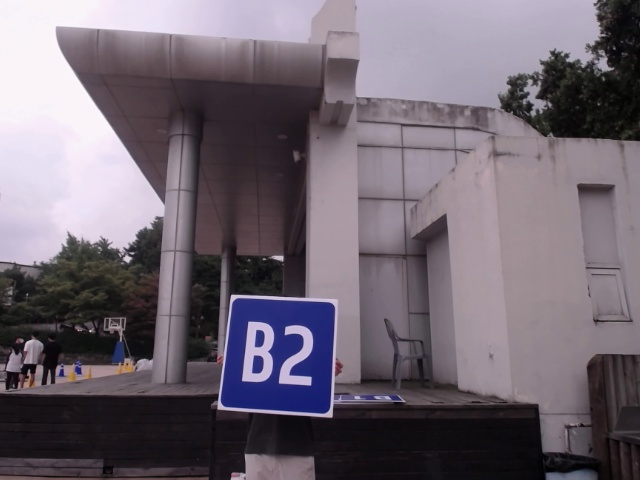delivery_b2: (220, 298, 336, 418)
